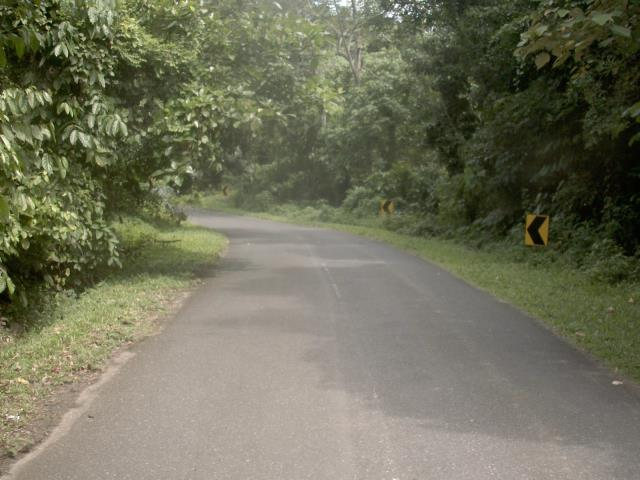traffic_sign: (516, 205, 556, 254)
